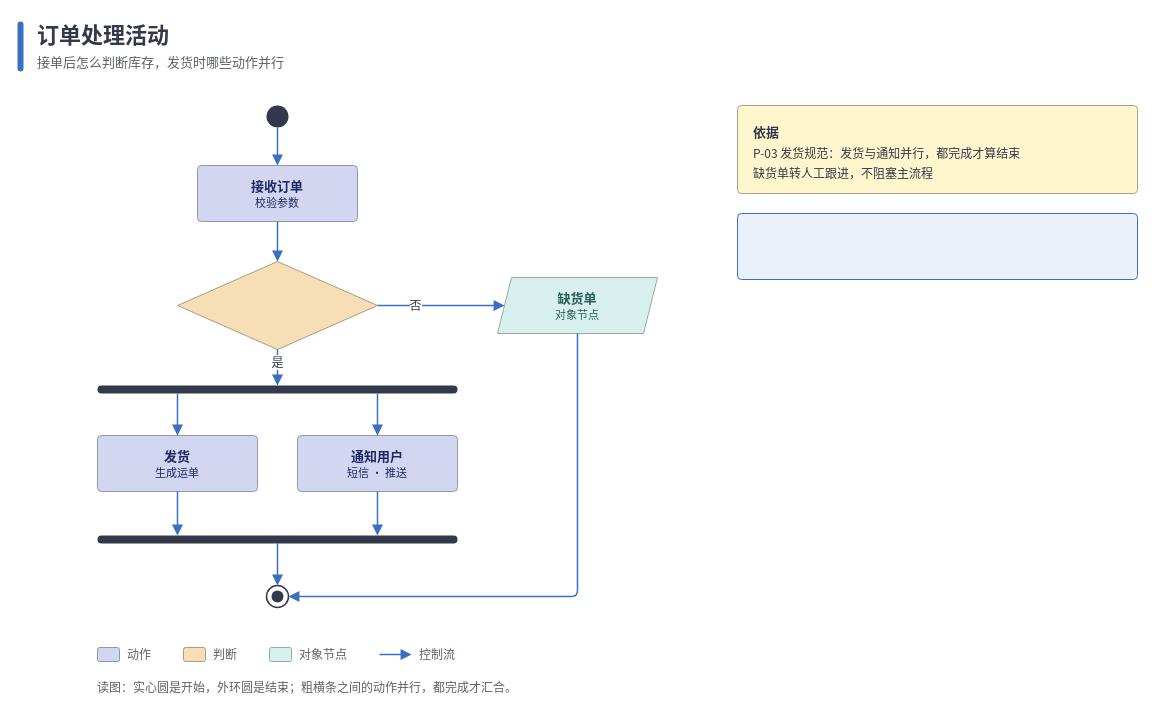
This 1155x714 diagram has some shape labels left out. The centre of each missing label's shape, as x and y in pixels:
不在这张图里 退款、改地址等异常分支: pixel 937 246
库存足够?: pixel 277 305
